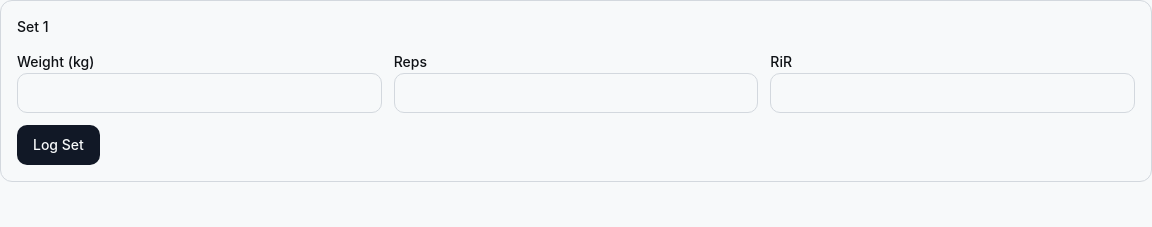
SetInput › clears form values after submit when resetOnSubmit is true (default)
Type "90" into the field labelled "Weight (kg)" at (199, 93), box left=17, top=73, right=382, bottom=113
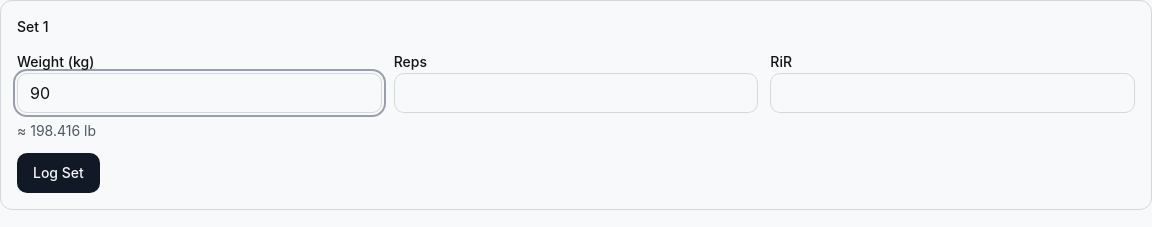
Type "8" into the number field labelled "Reps" at (576, 93), box left=394, top=73, right=758, bottom=113
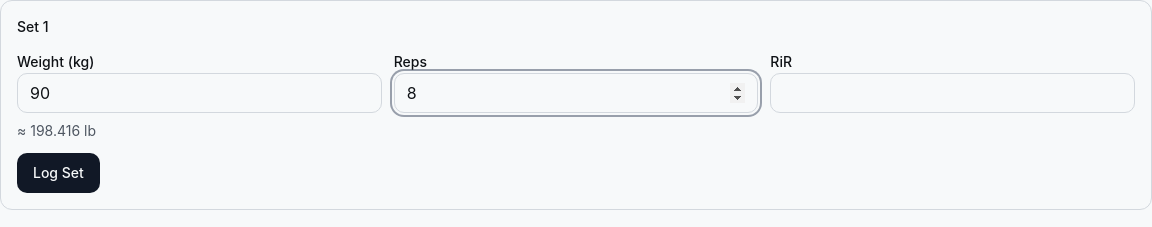
Click the button "Log Set" at (58, 173), box left=17, top=153, right=100, bottom=193
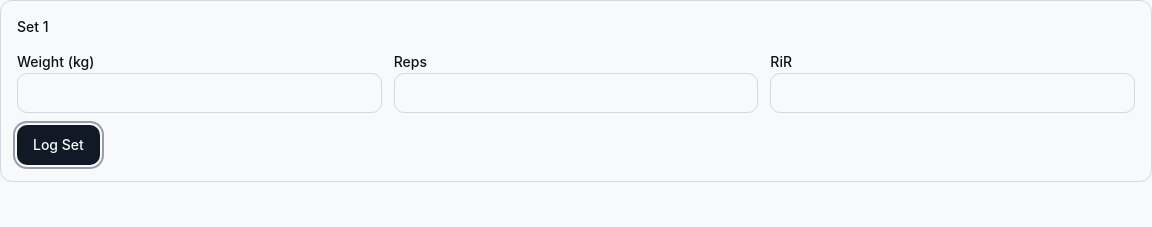
Expected: the field labelled "Weight (kg)" is empty, left=17, top=73, right=382, bottom=113
Expected: the number field labelled "Reps" is not empty, left=394, top=73, right=758, bottom=113
